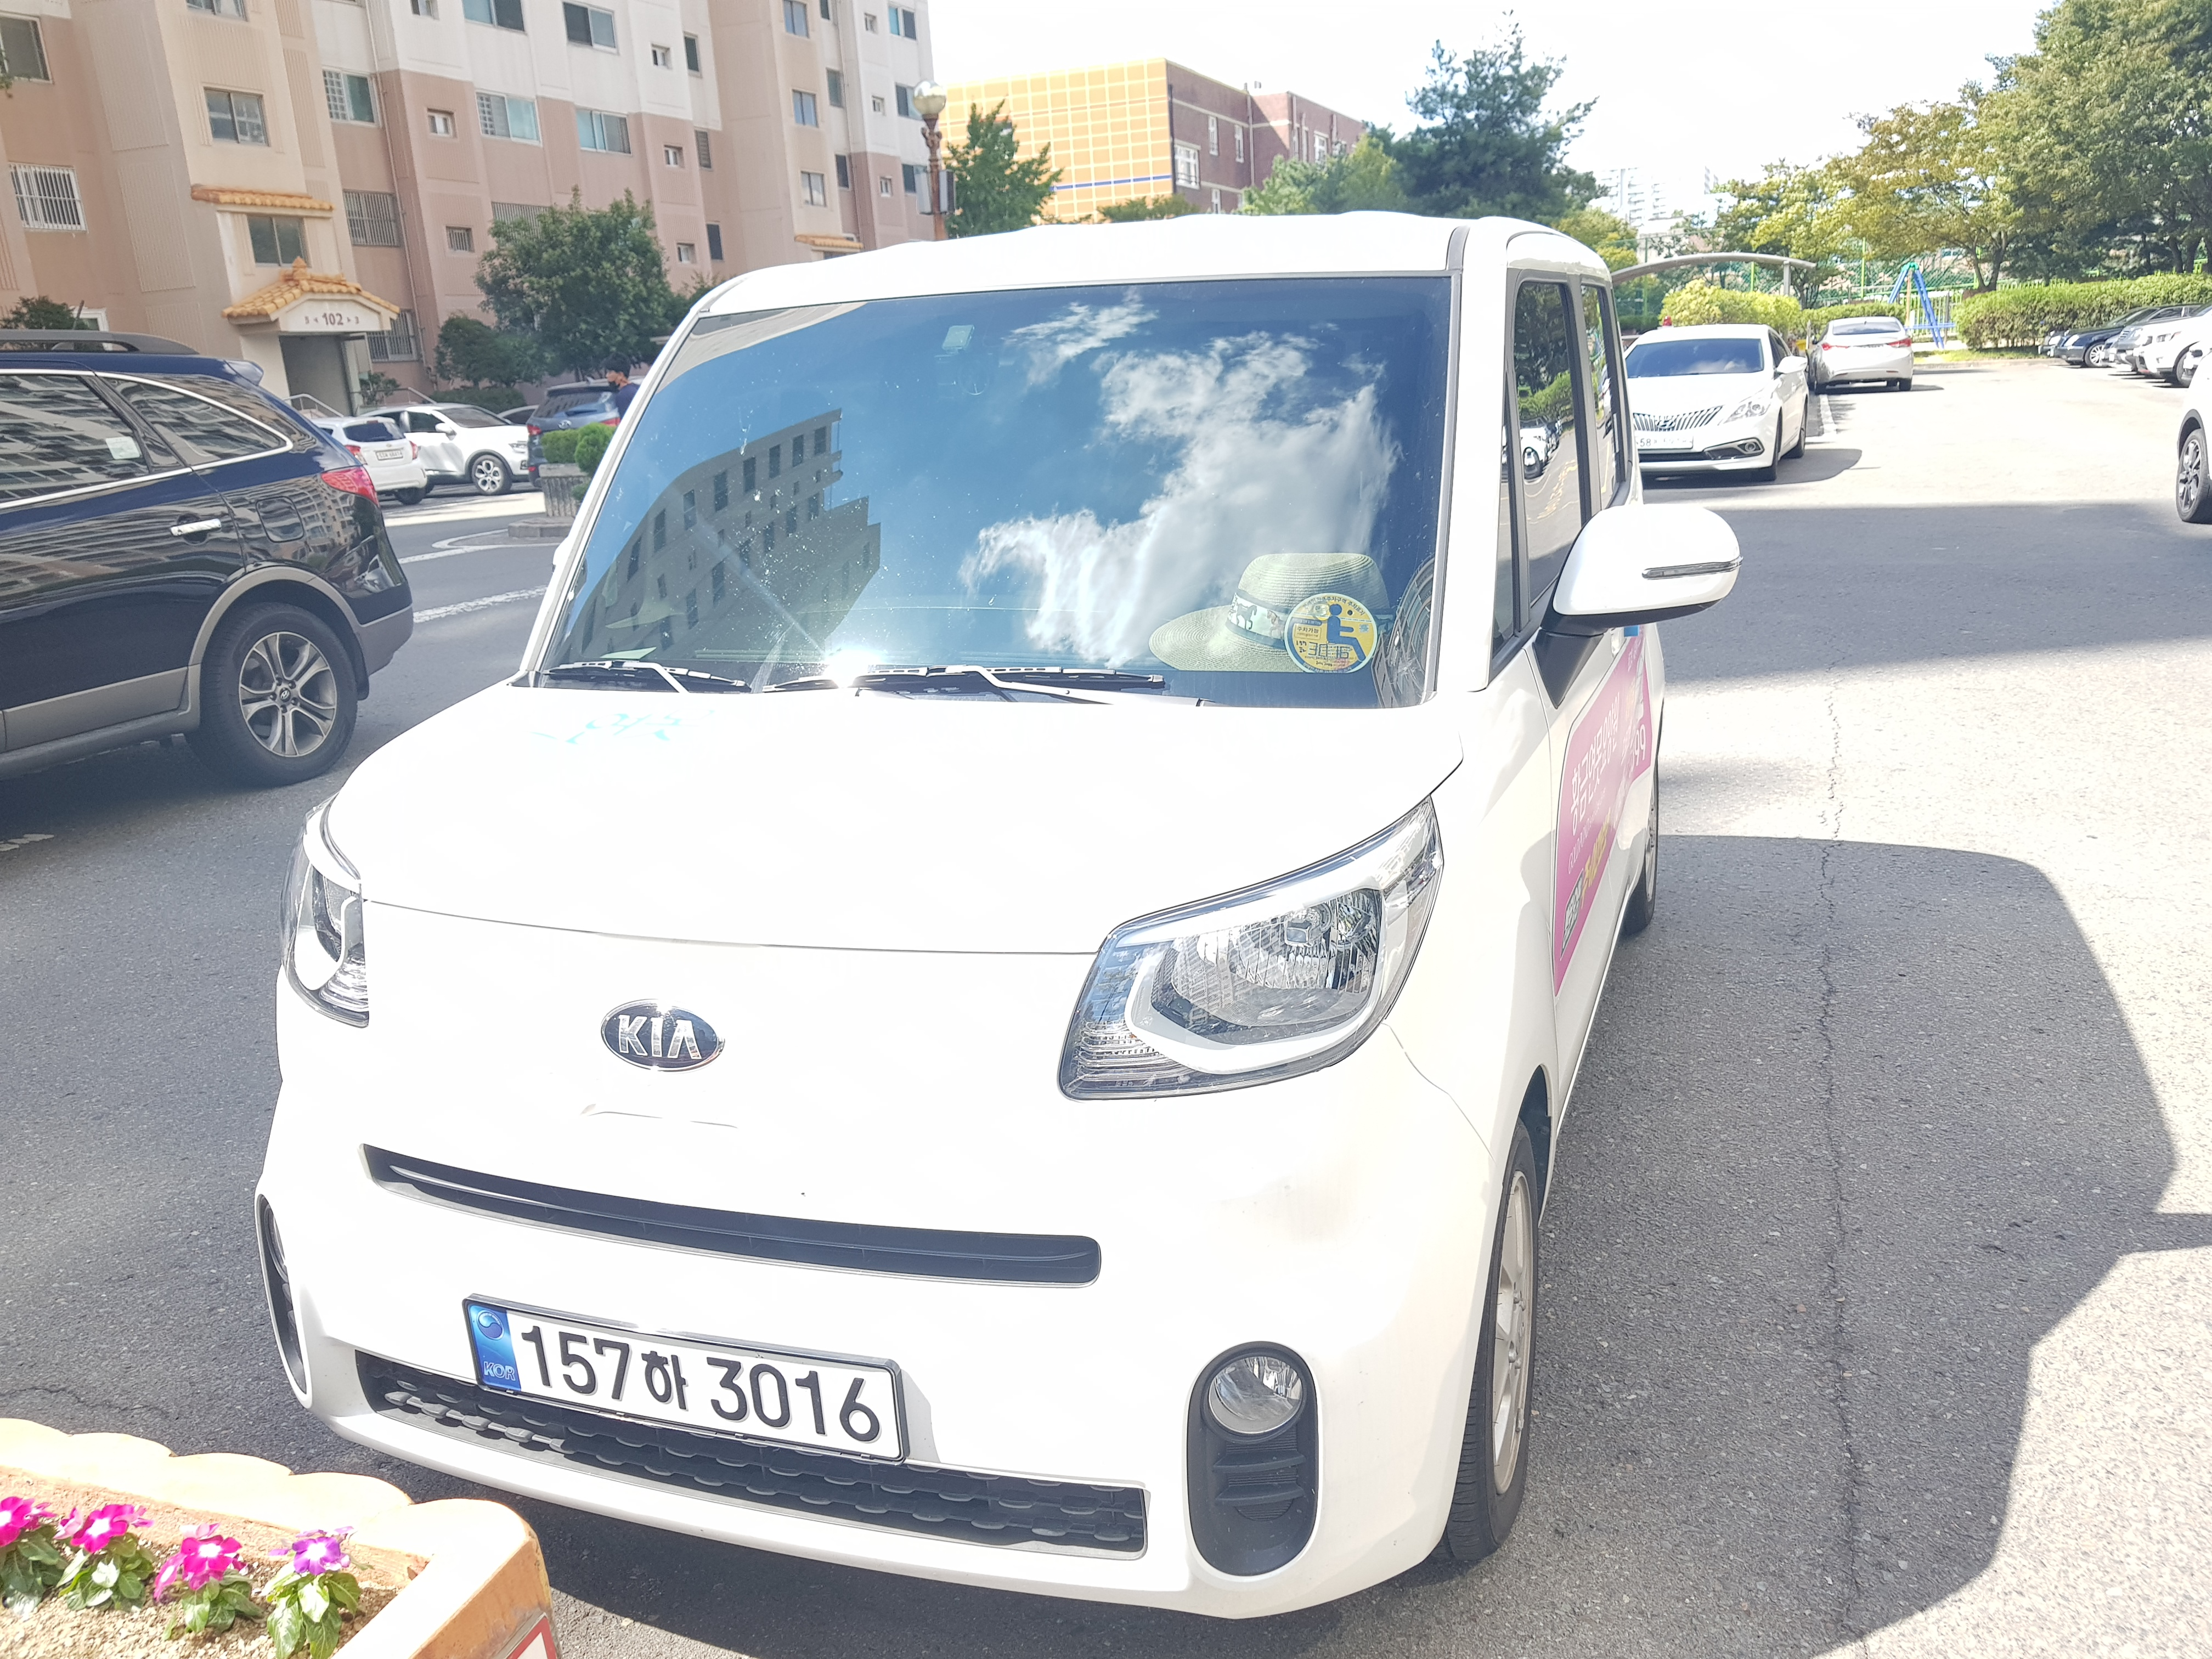disabled_parking: (1280, 589, 1386, 676)
